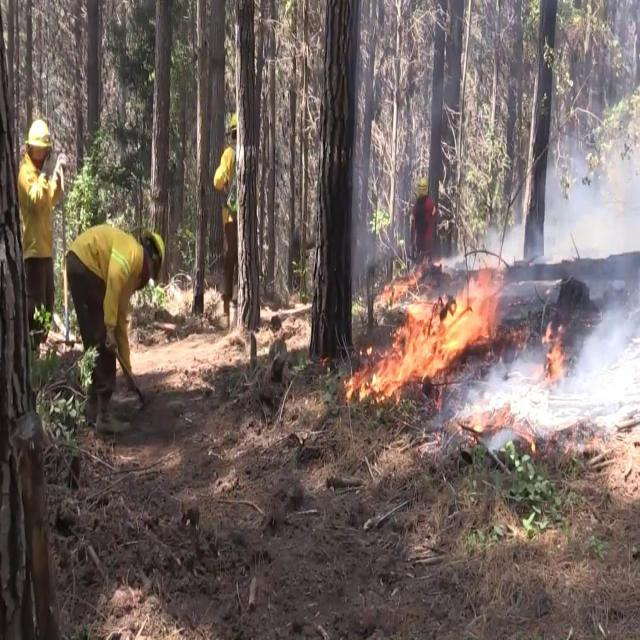Fire: (341, 263, 505, 403), (465, 412, 539, 452), (379, 264, 426, 308), (546, 341, 570, 386)
